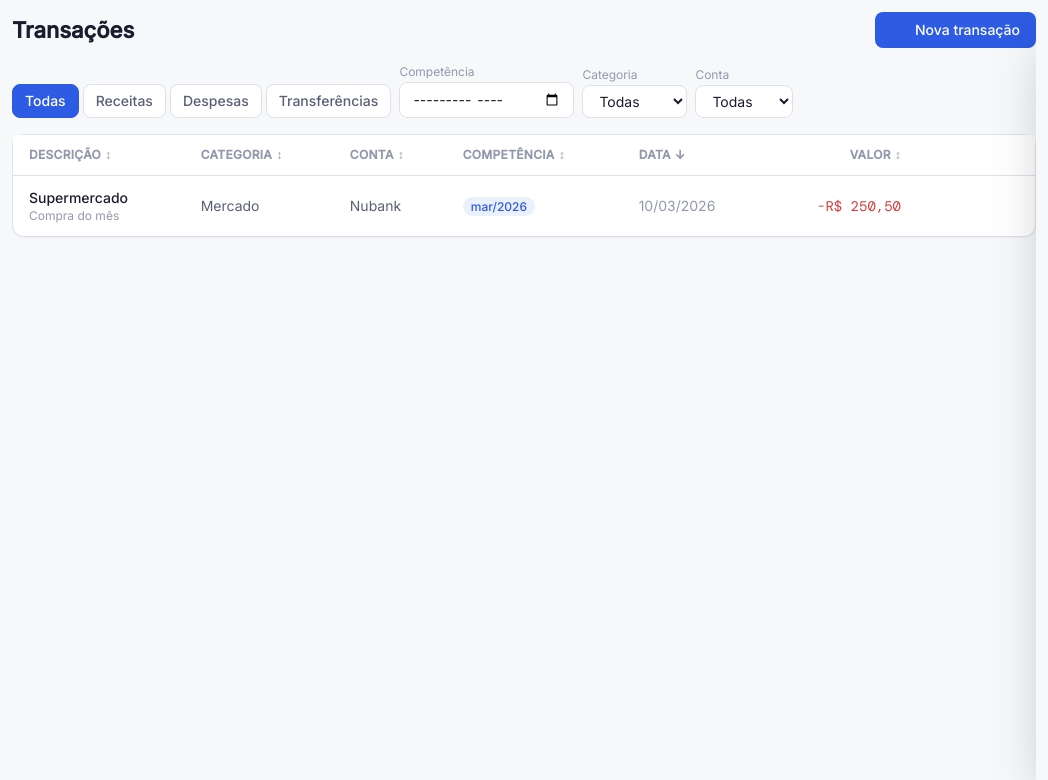
Test: Transacoes › filtros › filtro sem resultado mostra o estado vazio
Click the button "Receitas".
click(124, 101)  # box [83, 84, 166, 118]
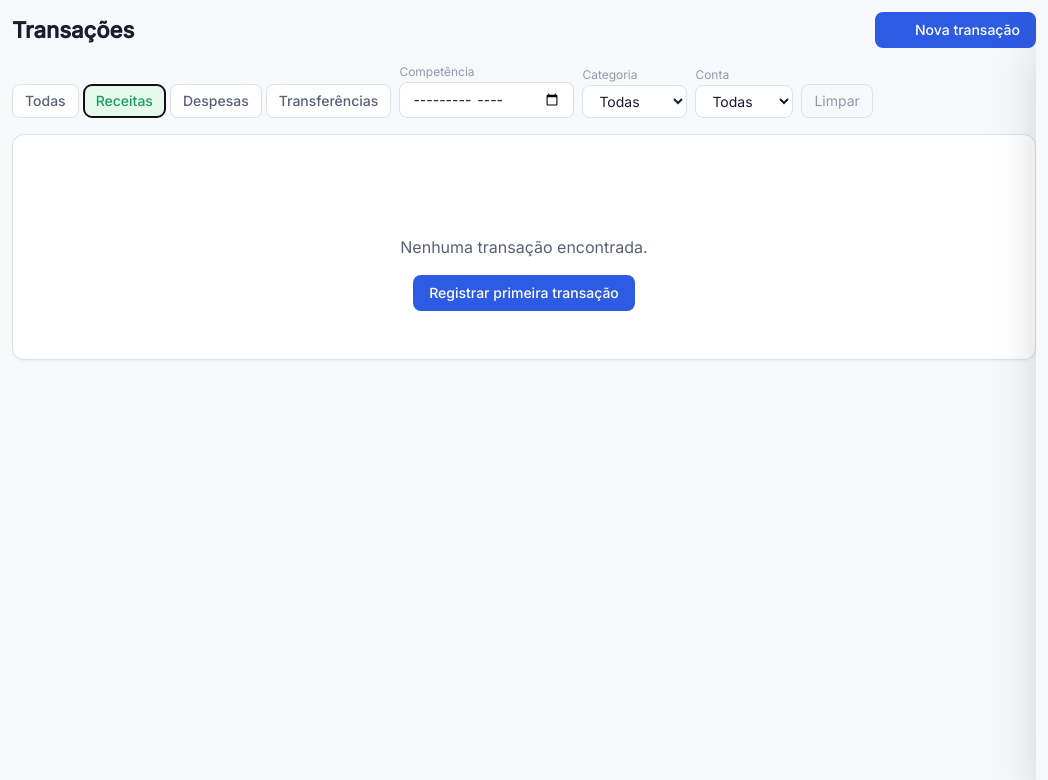
Now the text "Nenhuma transação encontrada." is shown, box [400, 237, 648, 257]
